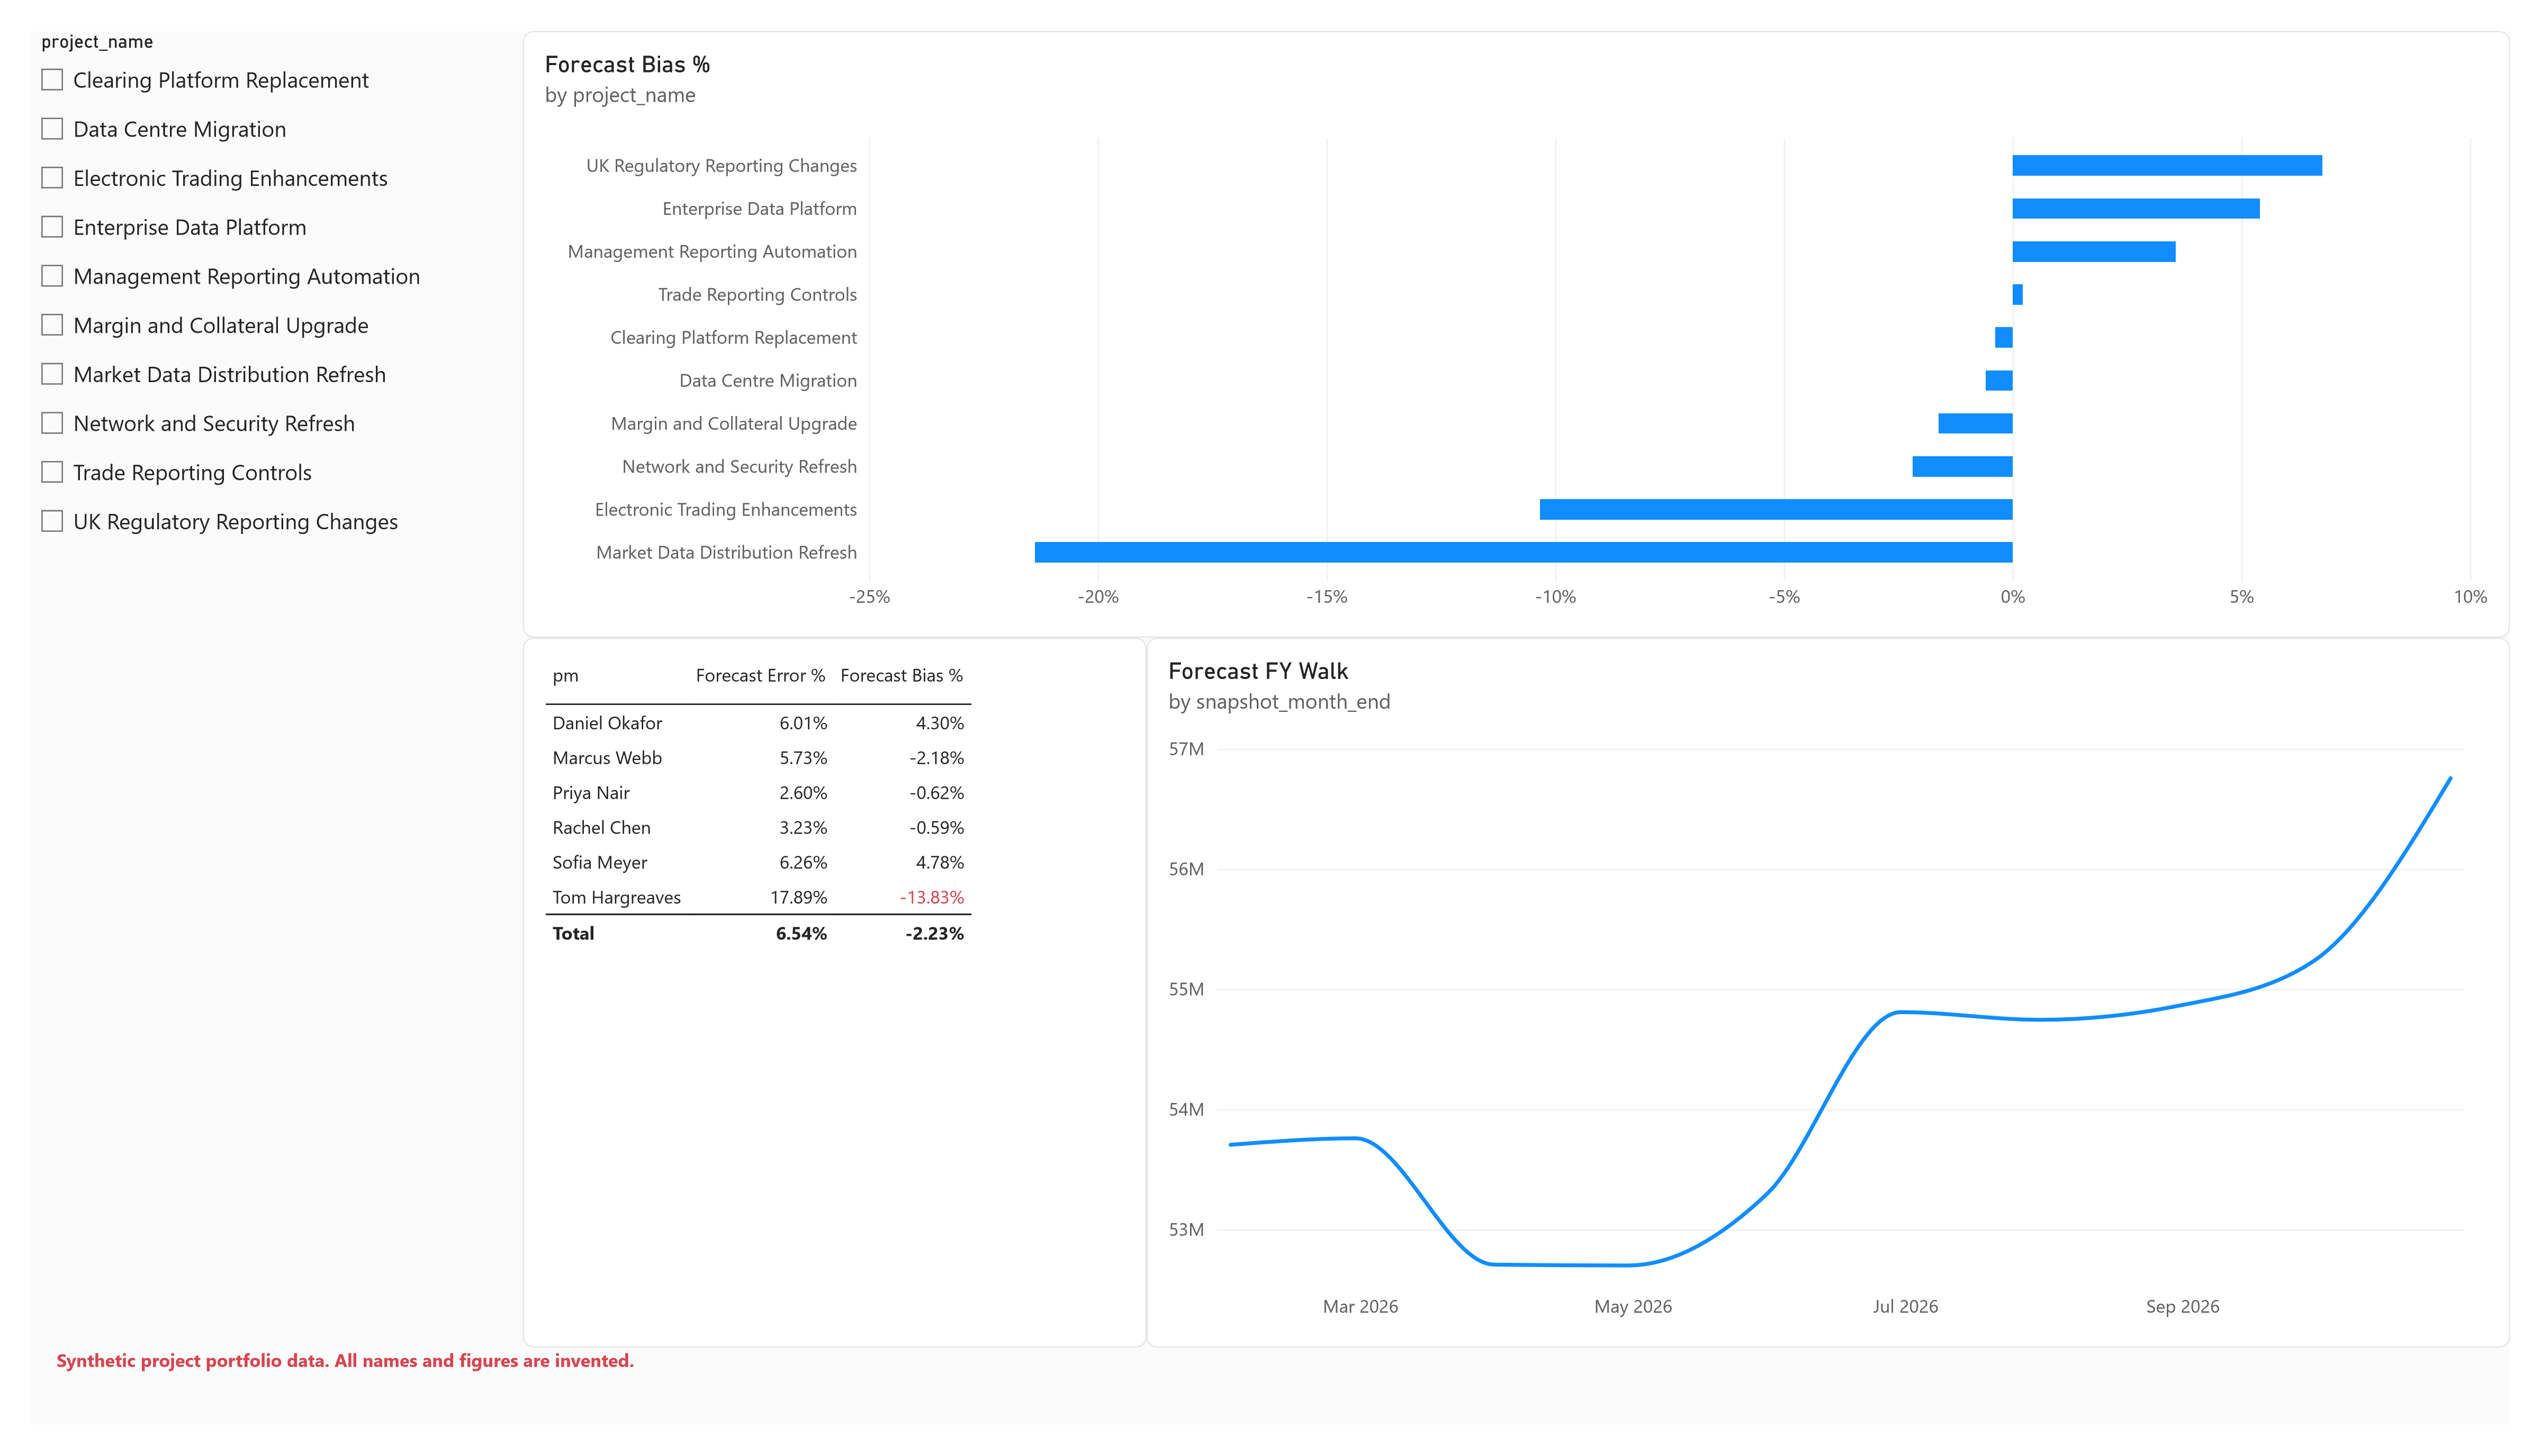

The dashboard page shown, as its layout file describes it:
{"tool":"powerbi","page":{"name":"2 Forecast accuracy","canvas":[1920,1080],"ordinal":2},"visuals":[{"type":"tableEx","fields":{"Values":["dim_project.pm","_Measures.Forecast Error %","_Measures.Forecast Bias %"]},"box":[0,0,561.2,470],"z":0},{"type":"clusteredBarChart","fields":{"Category":["dim_project.project_name"],"Y":["_Measures.Forecast Bias %"]},"box":[571.2,0,1348.8,470],"z":1},{"type":"lineChart","fields":{"Category":["fact_forecast_snapshots.snapshot_month_end"],"Y":["_Measures.Forecast FY Walk"]},"box":[0,470,917.5,550],"z":2},{"type":"slicer","fields":{"Values":["dim_project.project_name"]},"box":[917.5,483.8,388.8,500],"z":3},{"type":"textbox","box":[20,1020,600,30],"z":4}]}

Visuals, with their boxes in screenshot pixels (x1, y1, x2, y2), scaled from the page's 1920x1080 canvas onto the 2541x1456 screenshot:
tableEx - dim_project.pm x _Measures.Forecast Error %: l=0, t=0, r=743, b=634
clusteredBarChart - dim_project.project_name x _Measures.Forecast Bias %: l=756, t=0, r=2540, b=634
lineChart - fact_forecast_snapshots.snapshot_month_end x _Measures.Forecast FY Walk: l=0, t=634, r=1214, b=1375
slicer - dim_project.project_name: l=1214, t=652, r=1729, b=1326
textbox: l=26, t=1375, r=821, b=1416
